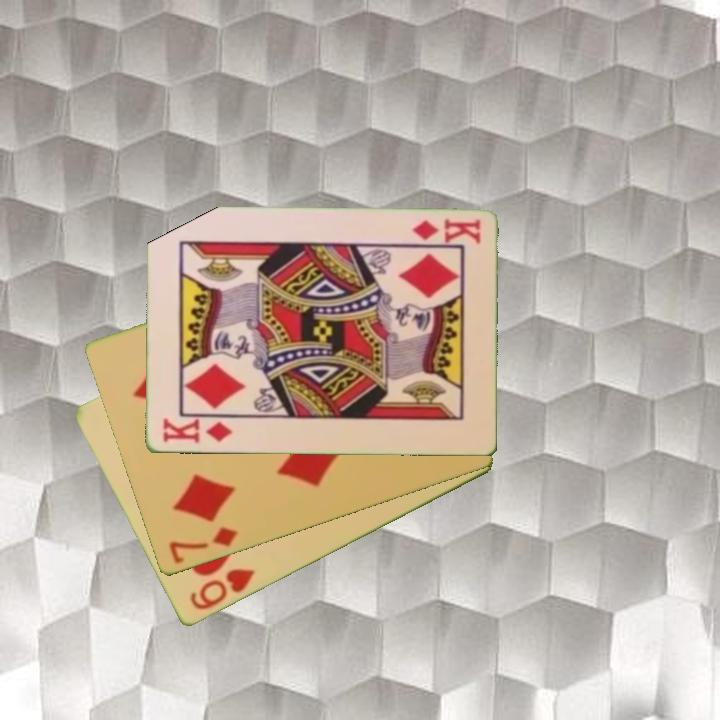6h: (186, 565, 258, 614)
7d: (165, 523, 241, 567)
Kd: (407, 215, 483, 247), (159, 415, 235, 446)
